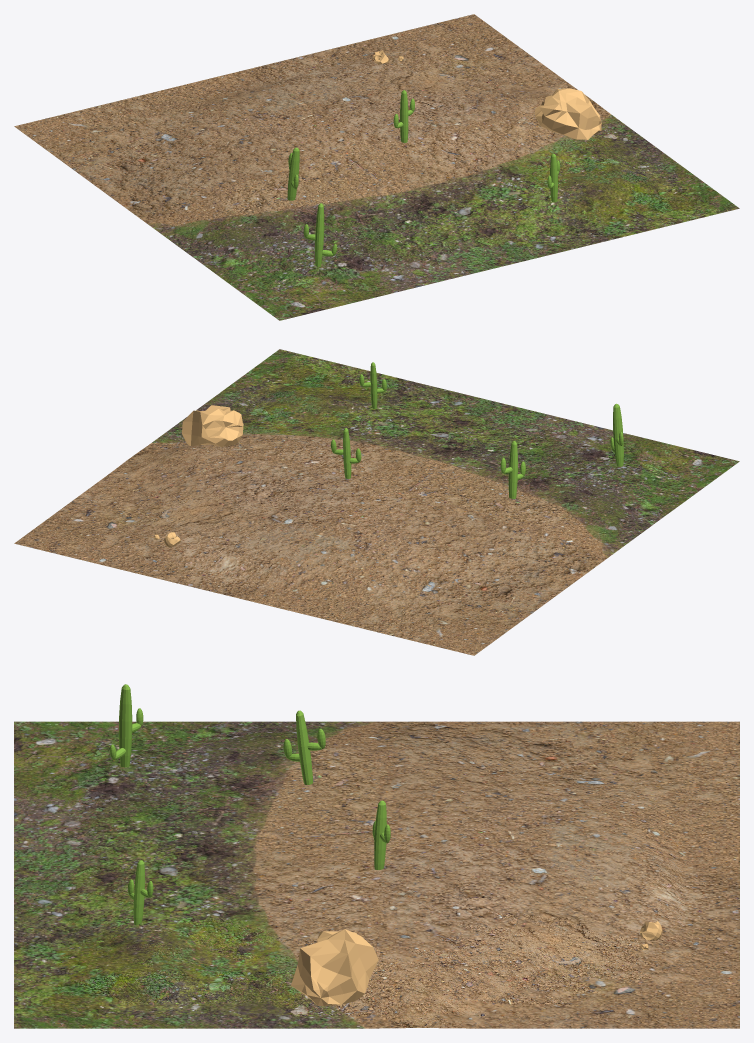
Rendered from SSFF.fbx.
The picture shows the model from 3 angles, top to bottom: view 1: azimuth 30°, elevation 25°; view 2: azimuth 150°, elevation 25°; view 3: azimuth 270°, elevation 25°; orthographic projection. The views are drawn at different scales.
Parts seen in each view (by area): view 1: Plane, group1446250878, group1910377098.001, group1305359395, group809628526; view 2: Plane, group1446250878, group1305359395, group1910377098.001, group809628526; view 3: Plane, group1446250878, group1305359395, group809628526, group1910377098.001, group1910377098.
Boxes of the visible parts, x1,y1,x2,y2 form: Plane: (14, 14, 739, 320); group1446250878: (535, 88, 601, 139); group1910377098.001: (393, 90, 414, 142); group1305359395: (287, 147, 299, 200); group809628526: (315, 203, 324, 266); Plane: (14, 349, 739, 655); group1446250878: (182, 405, 243, 446); group1305359395: (500, 441, 525, 498); group1910377098.001: (331, 428, 361, 478); group809628526: (613, 403, 623, 466); Plane: (14, 721, 739, 1028); group1446250878: (291, 929, 378, 1006); group1305359395: (283, 710, 325, 784); group809628526: (118, 684, 132, 767); group1910377098.001: (372, 800, 390, 869); group1910377098: (128, 860, 153, 924).
Bounding box in the file's own units: 500 × 74.83 × 500.
